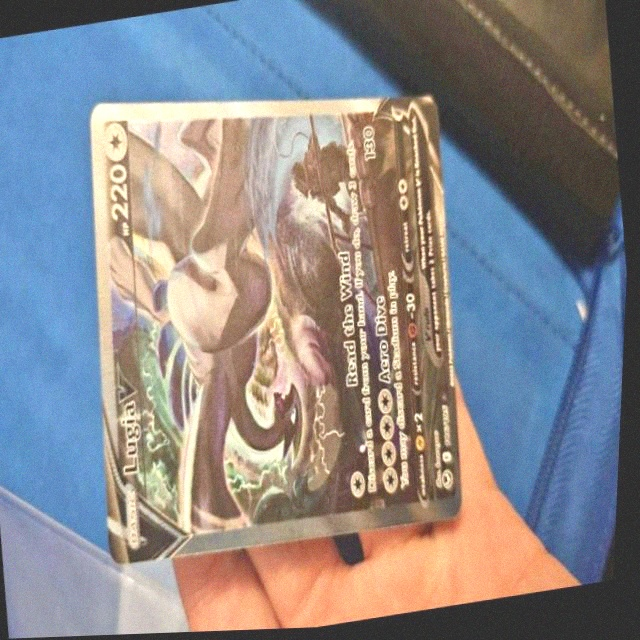card: (91, 97, 467, 564)
